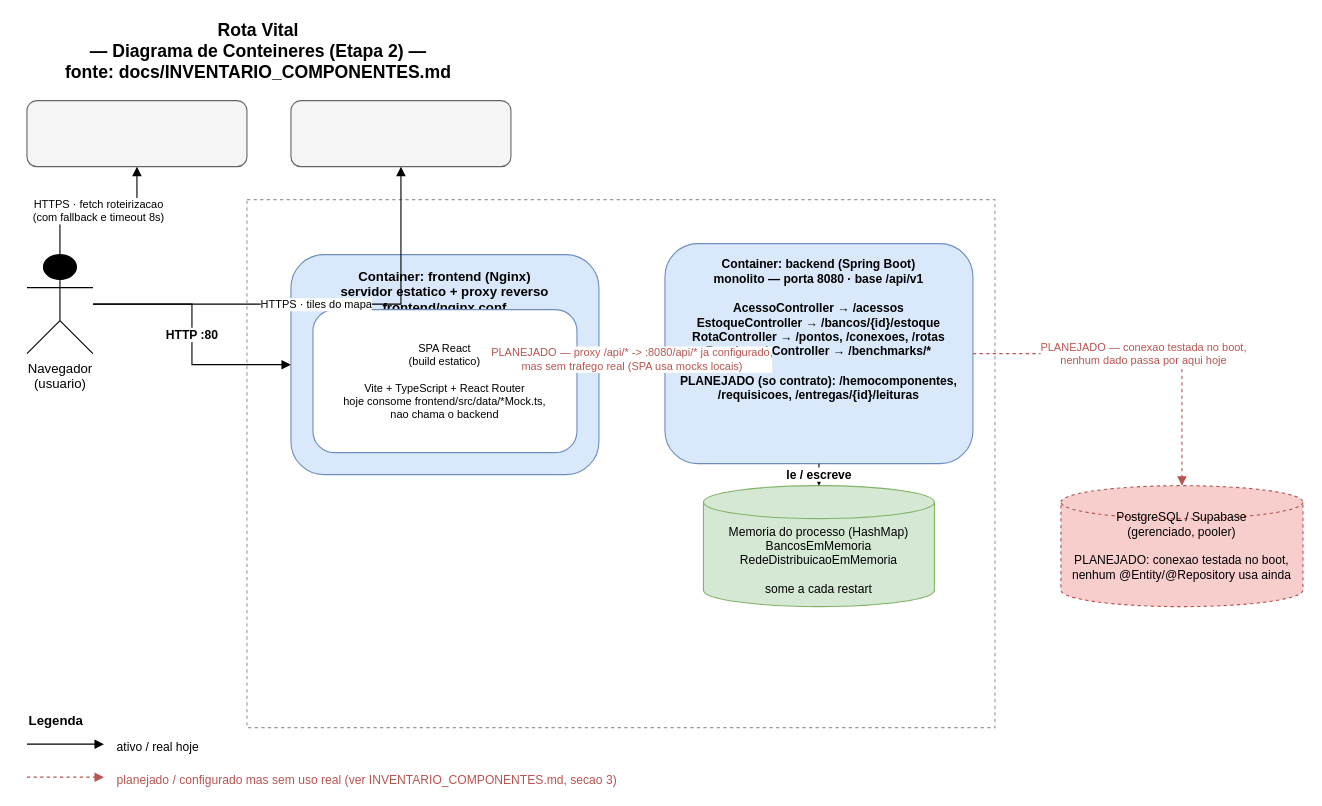
The diagram is 1322 pixels wide and 806 high, and some of its shapes have lost their labels. The box of each missing label's shape, as (x1, y1, x2, y2) in pixels:
OpenStreetMap tiles tile.openstreetmap.org (servico de terceiro): (290, 100, 511, 167)
OSRM router.project-osrm.org (servico de terceiro): (26, 100, 247, 167)
Sistema Rota Vital — docker-compose.yml: (246, 199, 995, 728)
